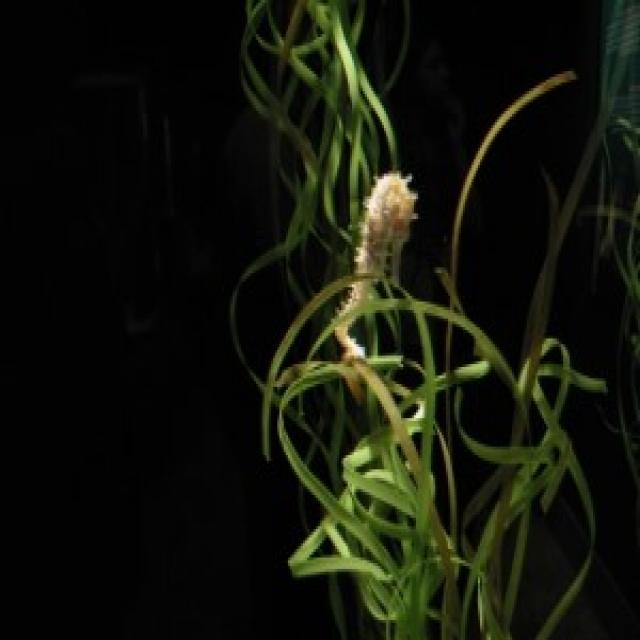Seahorse: (351, 166, 427, 286)
